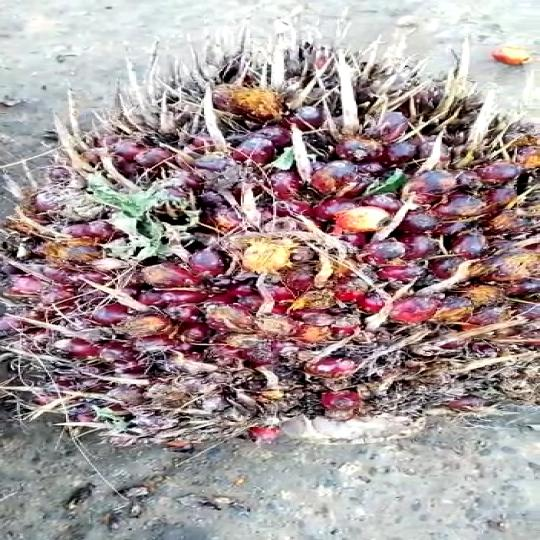masak: (0, 36, 540, 450)
